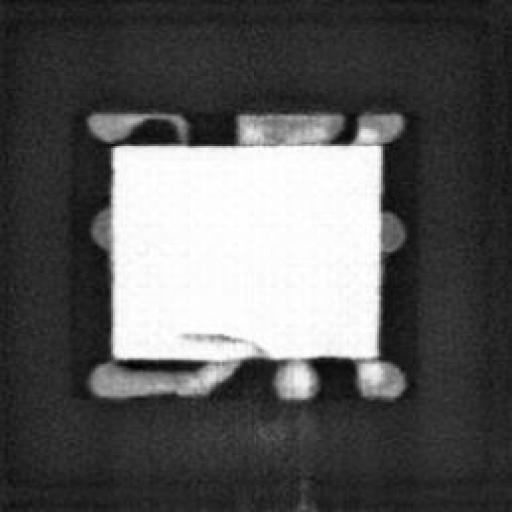DIE_INK: (177, 328, 268, 355)
